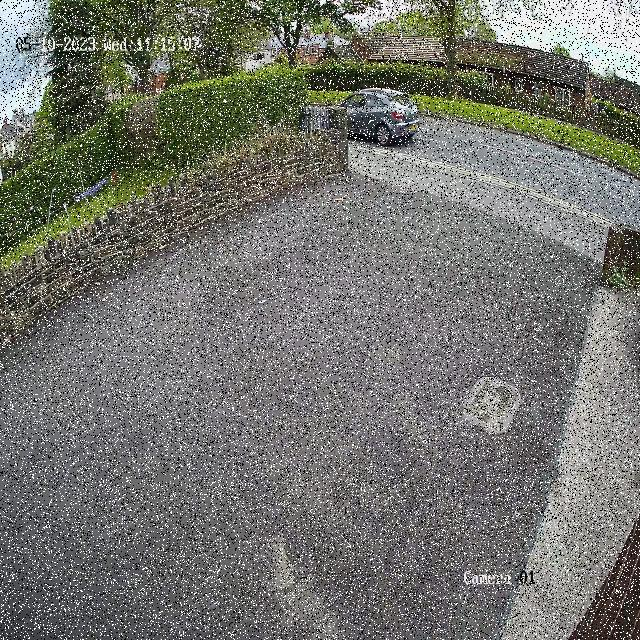vehicle: (330, 80, 428, 150)
